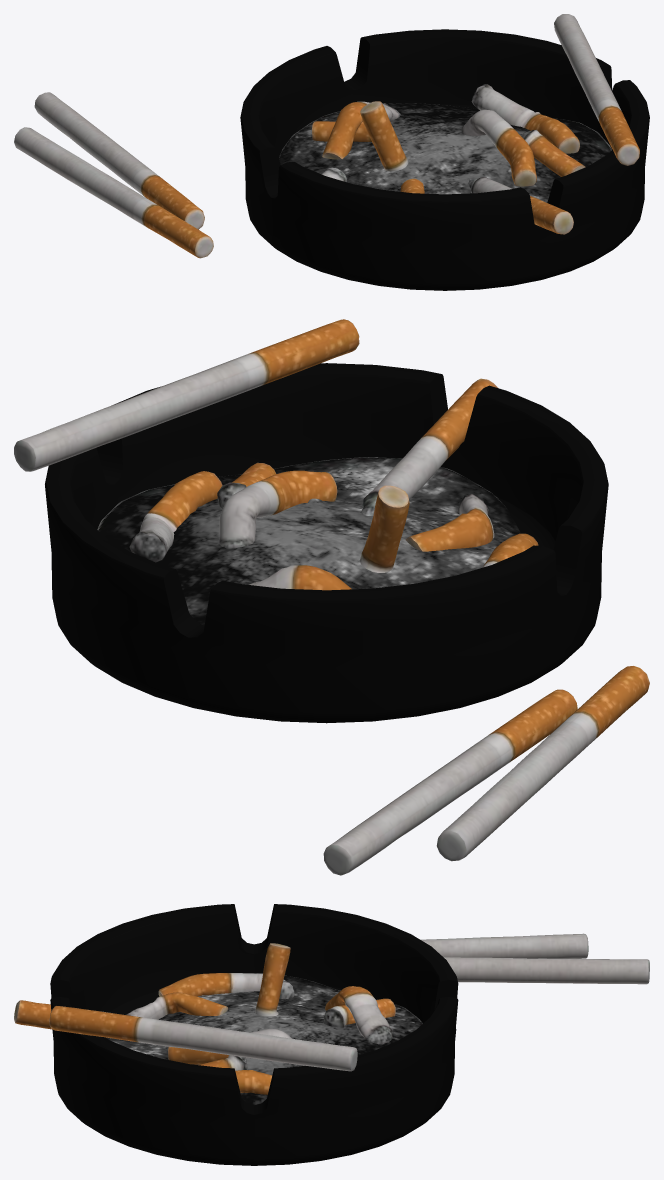
Rendered from ashtray.glb.
3 views of the same model, one above another, from view 1: azimuth 30°, elevation 25°; view 2: azimuth 150°, elevation 25°; view 3: azimuth 270°, elevation 25° (orthographic). The views are drawn at different scales.
Visible parts, largest first — view 1: Ashtray; view 2: Ashtray; view 3: Ashtray.
Part boxes in pixels (x1=…): Ashtray: x1=14, y1=14, x2=649, y2=290; Ashtray: x1=14, y1=319, x2=649, y2=875; Ashtray: x1=14, y1=904, x2=649, y2=1165.
Size of the model in its own units: 0.1363 by 0.0348 by 0.1675.
1 material, 1 textured.
